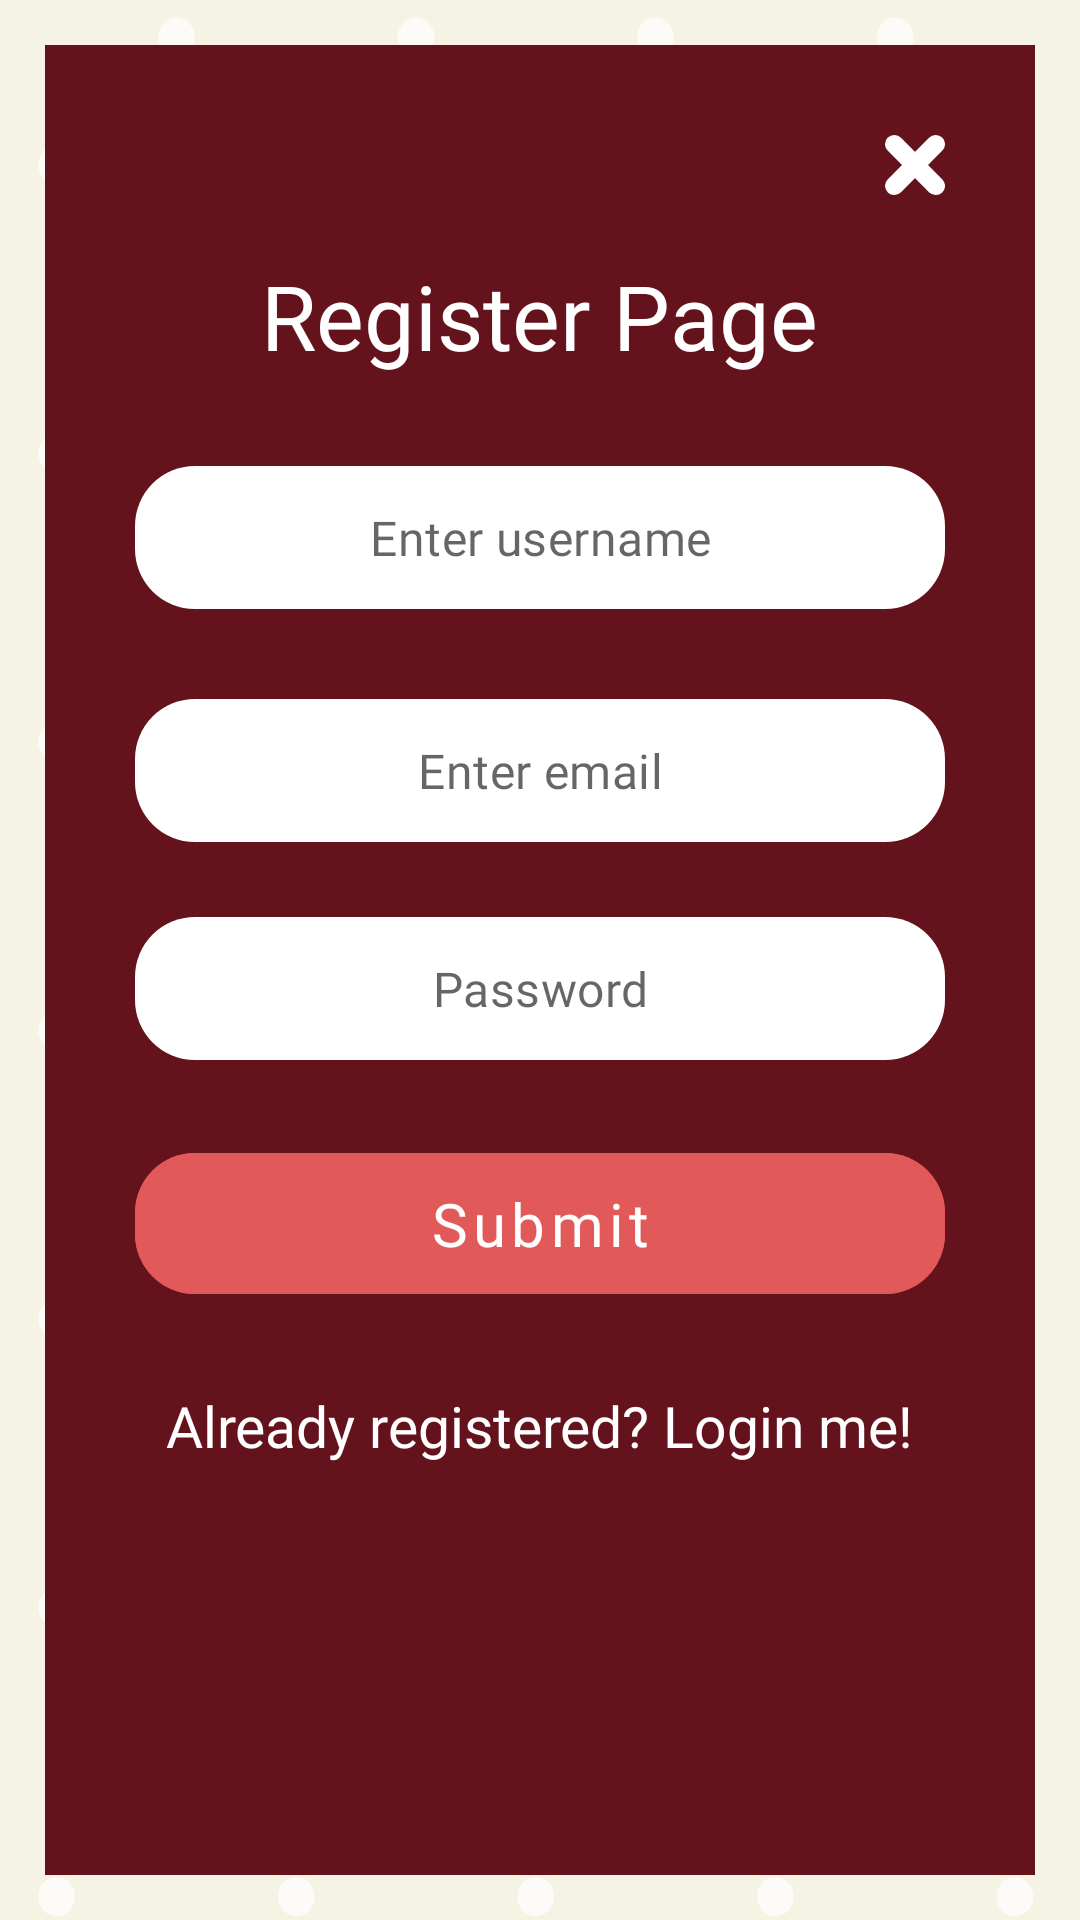

Screen size 1080px x 1920px. Icon name, then its box in pixels as region(x1, y1, x2, y2):
close: region(885, 135, 945, 195)
